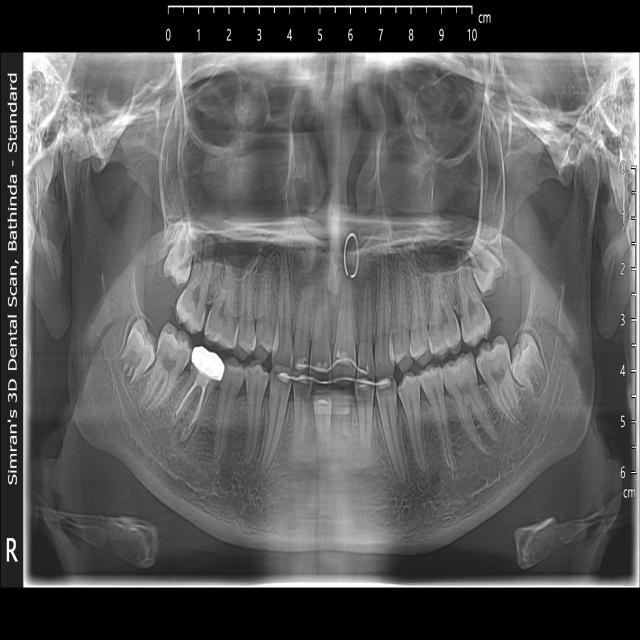Crown: (191, 345, 223, 384)
Root Canal Treatment: (170, 347, 225, 444)
impacted tooth: (162, 226, 193, 284)
